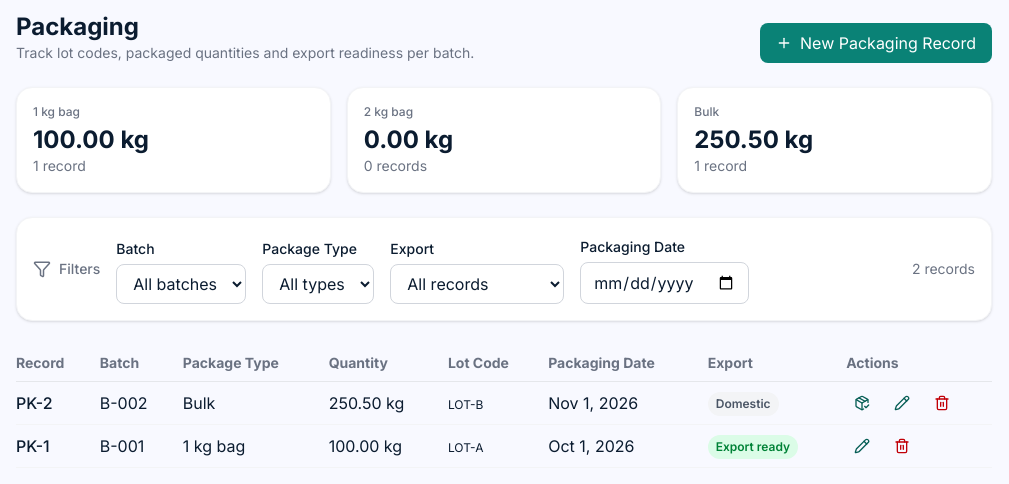
Scenario: PackagingRecordList › filters by export readiness
This screenshot has width=1009, height=484.
Expected: the text "PK-1" is shown, top-left (16, 424), bottom-right (100, 468)
Select "Not export ready" in the dropdown named "Filter by export readiness" at (477, 284), box top-left (390, 264), bottom-right (564, 304)
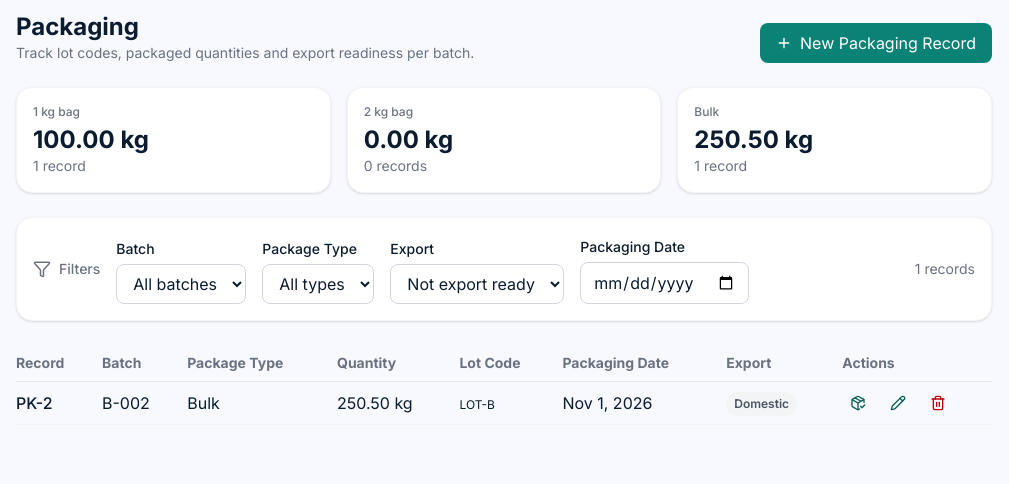
Expected: the text "PK-2" is shown, top-left (16, 382), bottom-right (102, 424)
Now the text "PK-1" is gone
